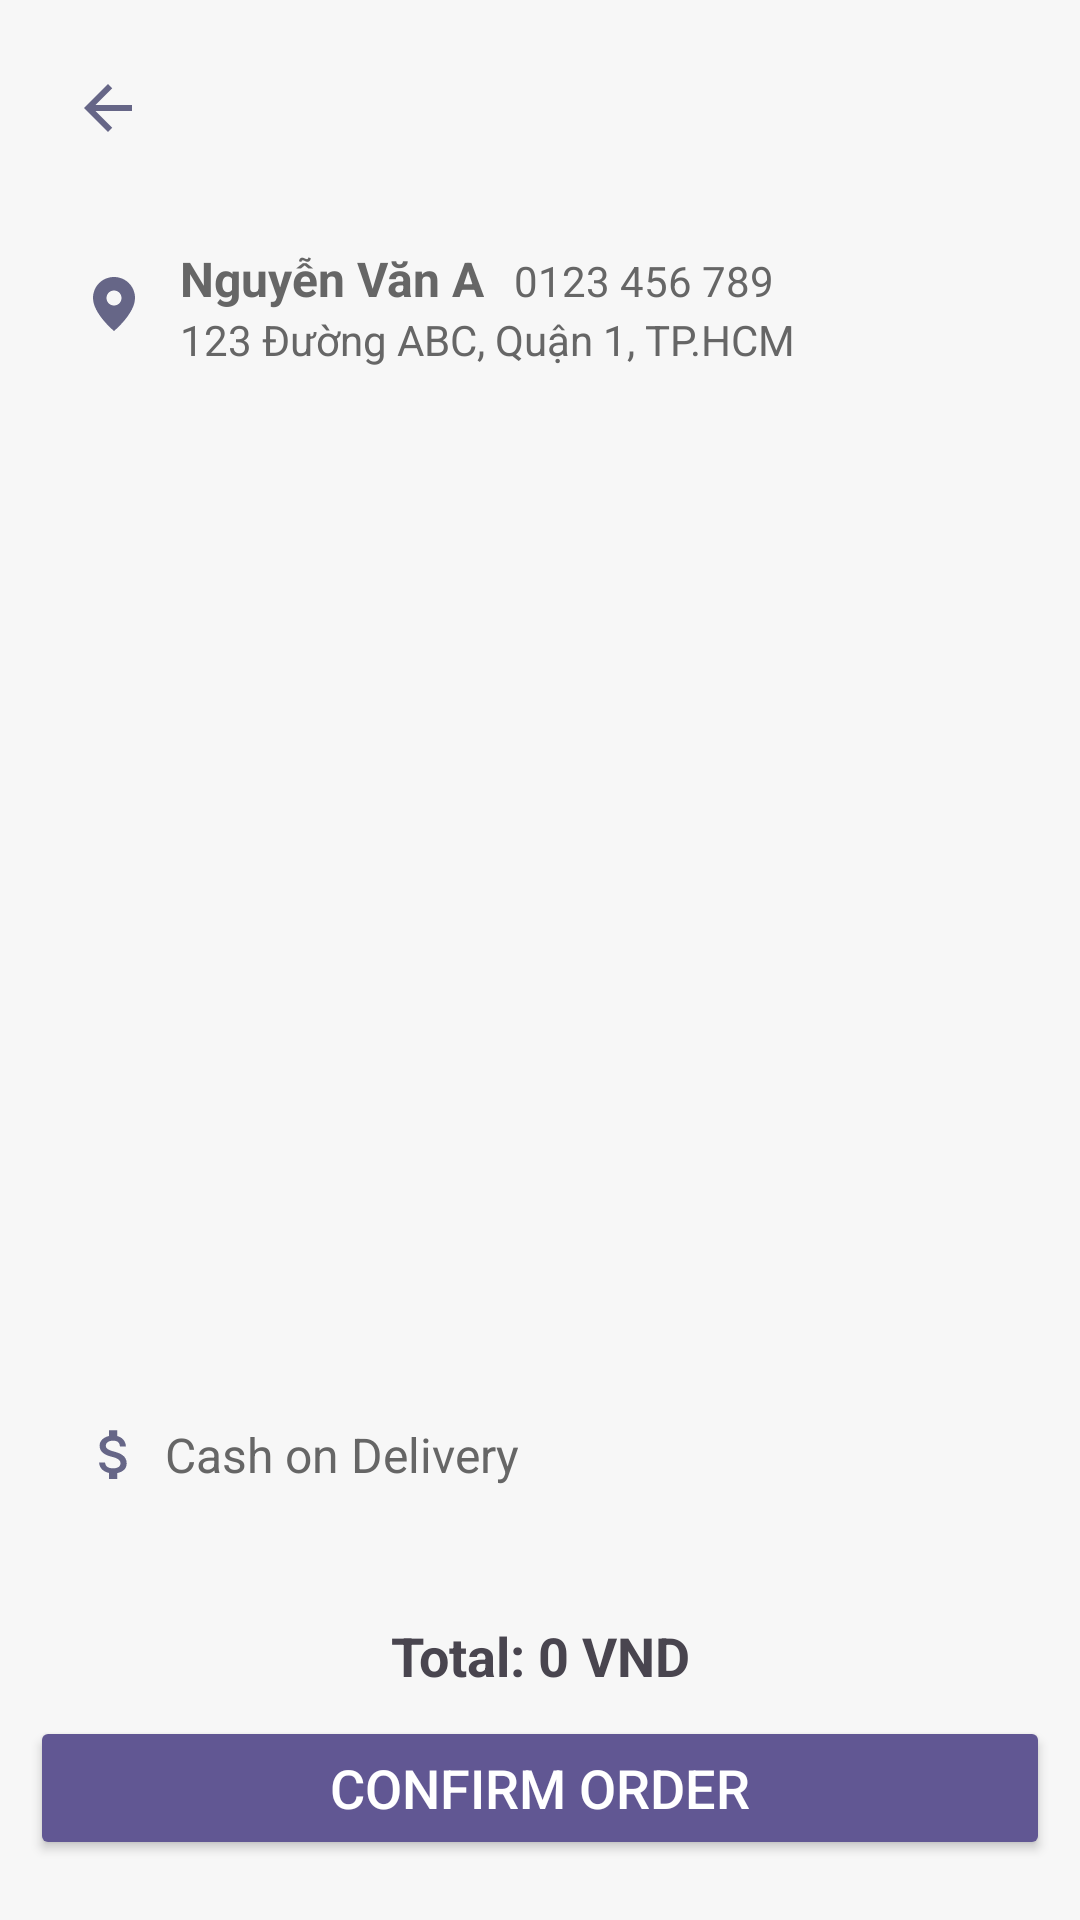

Icons on this 1080×1920 Android screen, each with the point to tap as (x=x, y=y):
attach money: (x=113, y=1454)
Back: (x=108, y=108)
location: (x=114, y=304)
